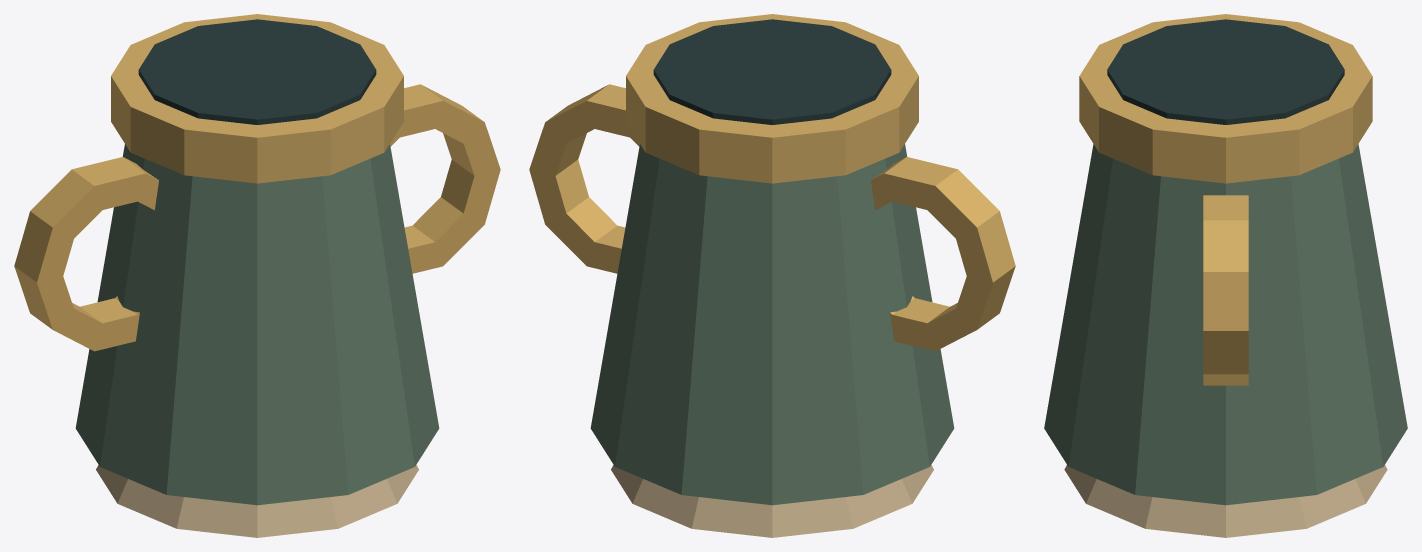
The model's file is vessel.glb.
3 views of the same model, side by side, from view 1: azimuth 30°, elevation 25°; view 2: azimuth 150°, elevation 25°; view 3: azimuth 270°, elevation 25° (orthographic).
Visible parts, largest first — view 1: vessel_solid; view 2: vessel_solid; view 3: vessel_solid.
Boxes of the visible parts, <box> form: vessel_solid: <box>14,14,500,537</box>; vessel_solid: <box>529,14,1015,537</box>; vessel_solid: <box>1044,14,1407,537</box>.
Bounding box in the file's own units: 1.06 × 0.874 × 0.72.
